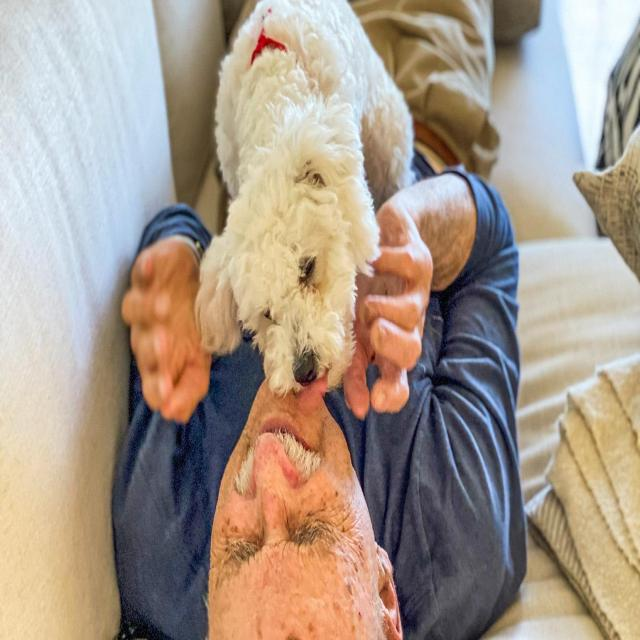Dog: (190, 118, 382, 400)
